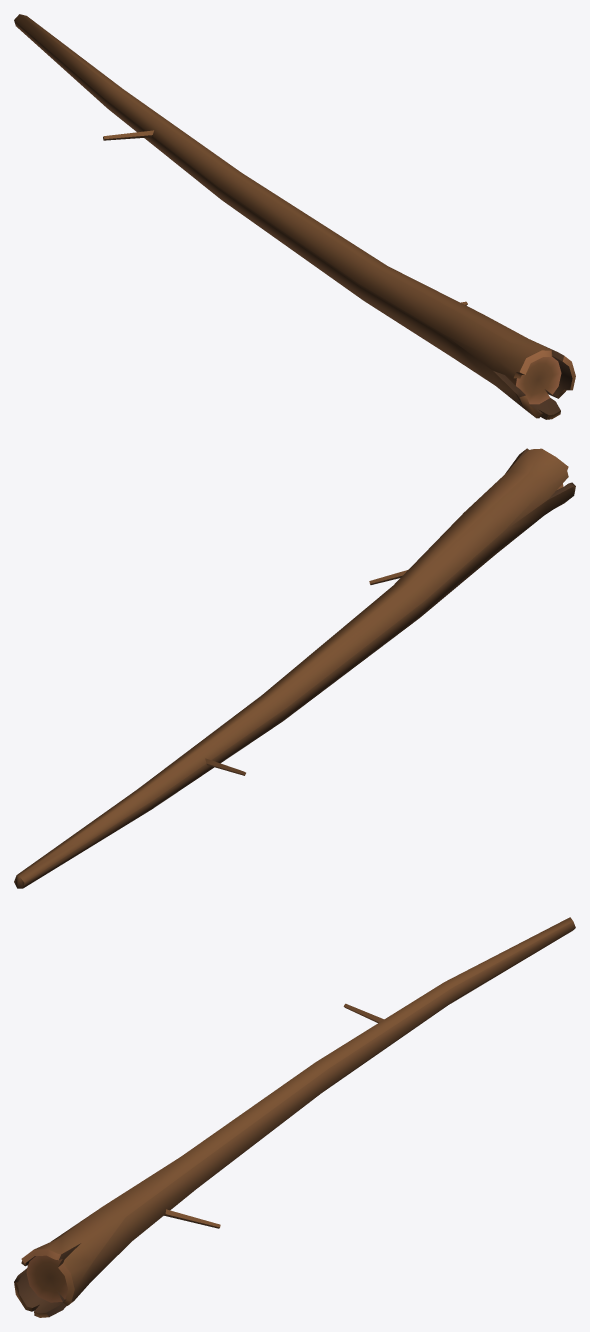
Rendered from Tree_Fallen_1A.fbx.
The picture shows the model from 3 angles, top to bottom: view 1: azimuth 30°, elevation 25°; view 2: azimuth 150°, elevation 25°; view 3: azimuth 330°, elevation 25°; orthographic projection.
Visible parts, largest first — view 1: Tree_Fallen_1A; view 2: Tree_Fallen_1A; view 3: Tree_Fallen_1A.
Part boxes in pixels (<box>): Tree_Fallen_1A: <box>14,14,575,419</box>; Tree_Fallen_1A: <box>14,448,575,888</box>; Tree_Fallen_1A: <box>14,917,575,1317</box>.
Bounding box in the file's own units: 82.78 × 41.23 × 642.
